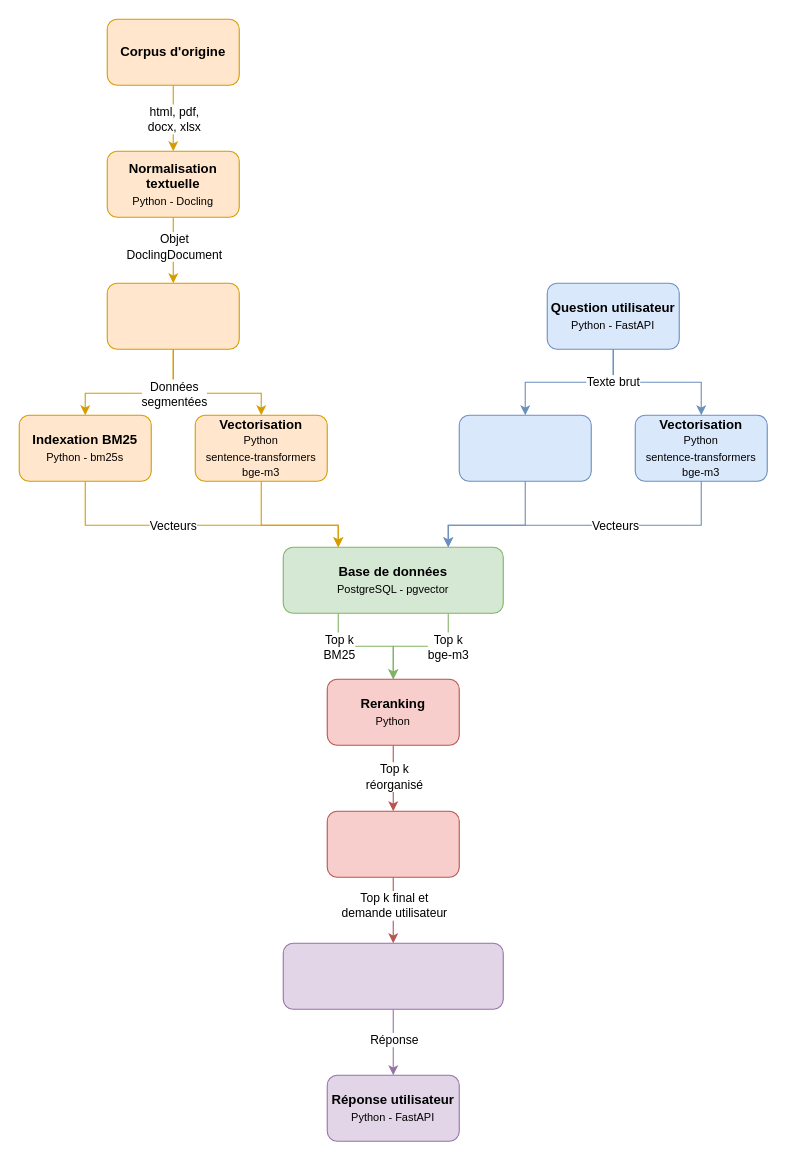
Some shapes in this 787 by 1161 pixel diagram are drawn without their labels. The shapes that lost their labels are listed below. From the top down, each one's centre as x and y in pixels, then its label:
At point 172,315: "Segmentation des données Python - Docling".
At point 524,447: "Tokenisation BM25 Python - bm25s".
At point 392,843: "Cross encoding Python sentence-transformers".
At point 392,975: "Traitement LLM Python sentence-transformers".
